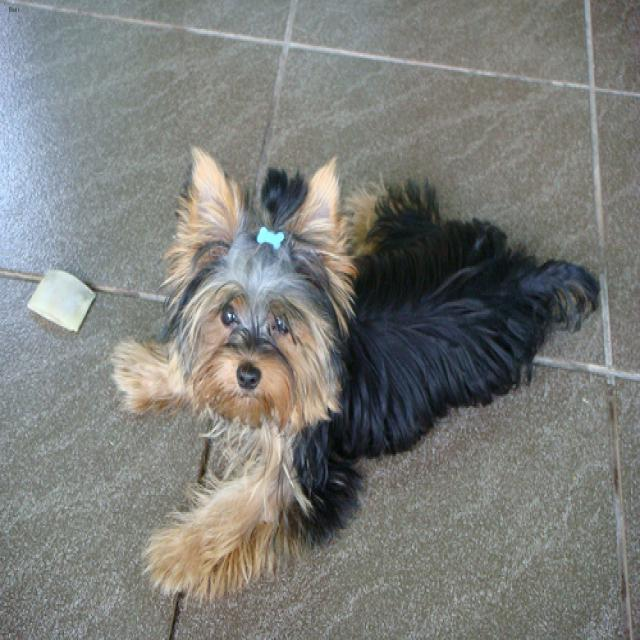dog-yorkshire_terrier: (109, 137, 607, 613)
